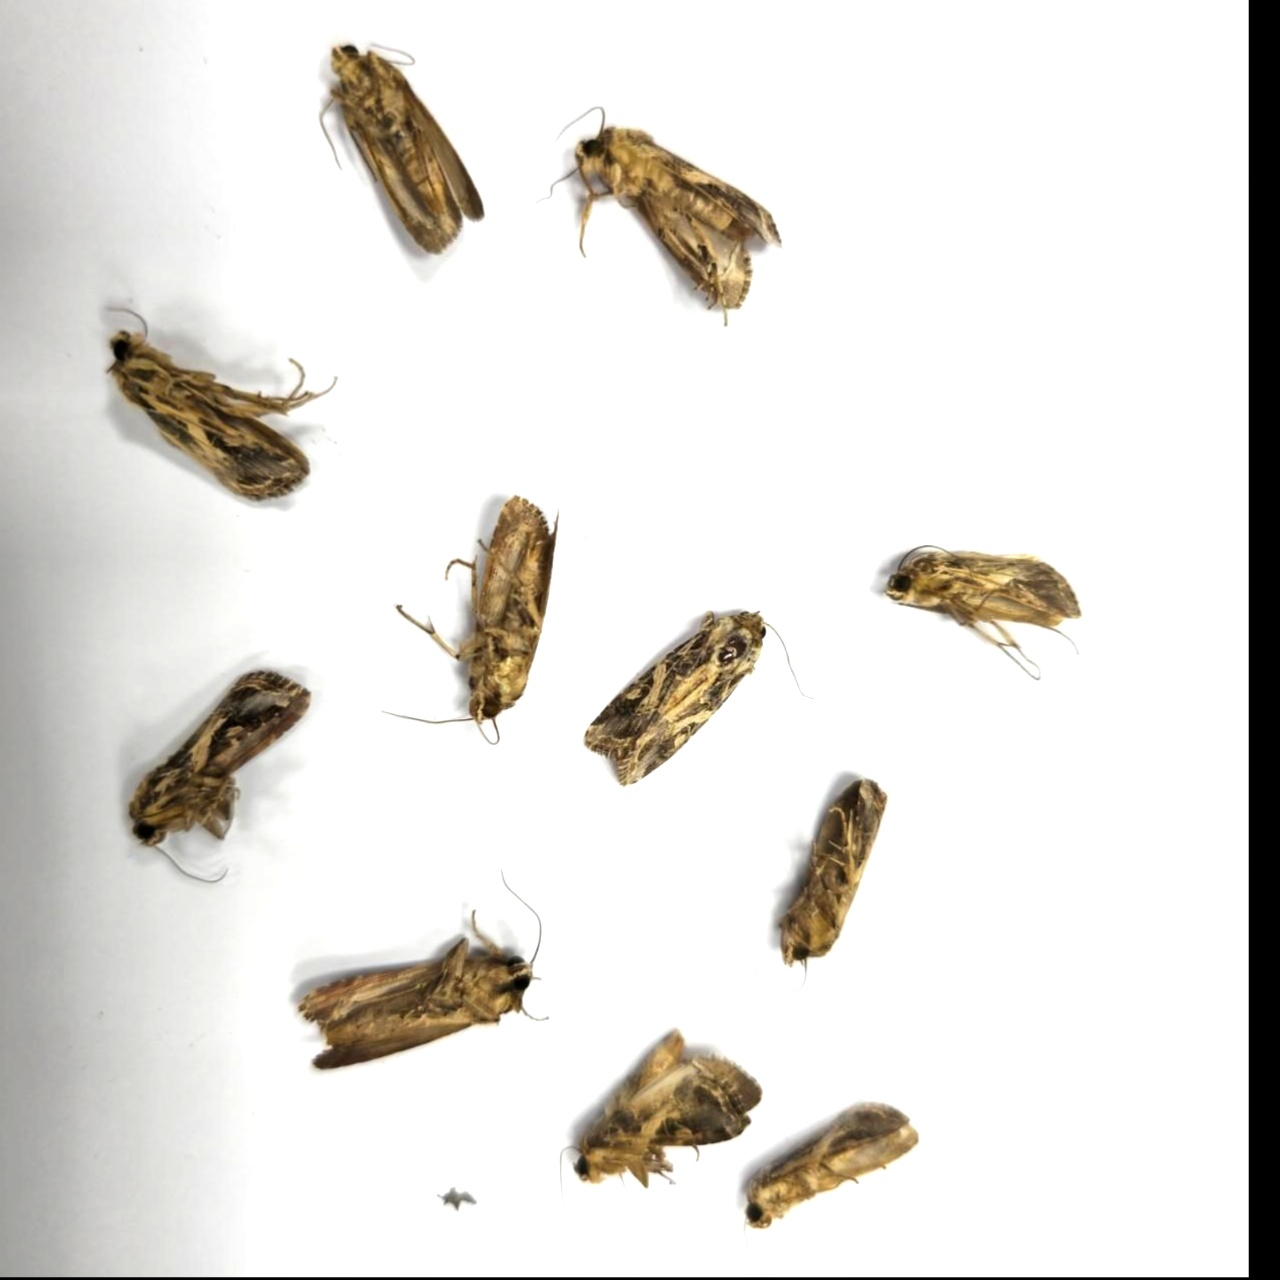Spodoptera litura: (530, 105, 783, 328), (297, 869, 549, 1070), (104, 306, 338, 503), (380, 493, 559, 745), (558, 1028, 762, 1230), (584, 610, 813, 787), (129, 669, 309, 881), (318, 40, 486, 256), (742, 1101, 919, 1275), (747, 778, 887, 994), (885, 544, 1081, 680)
